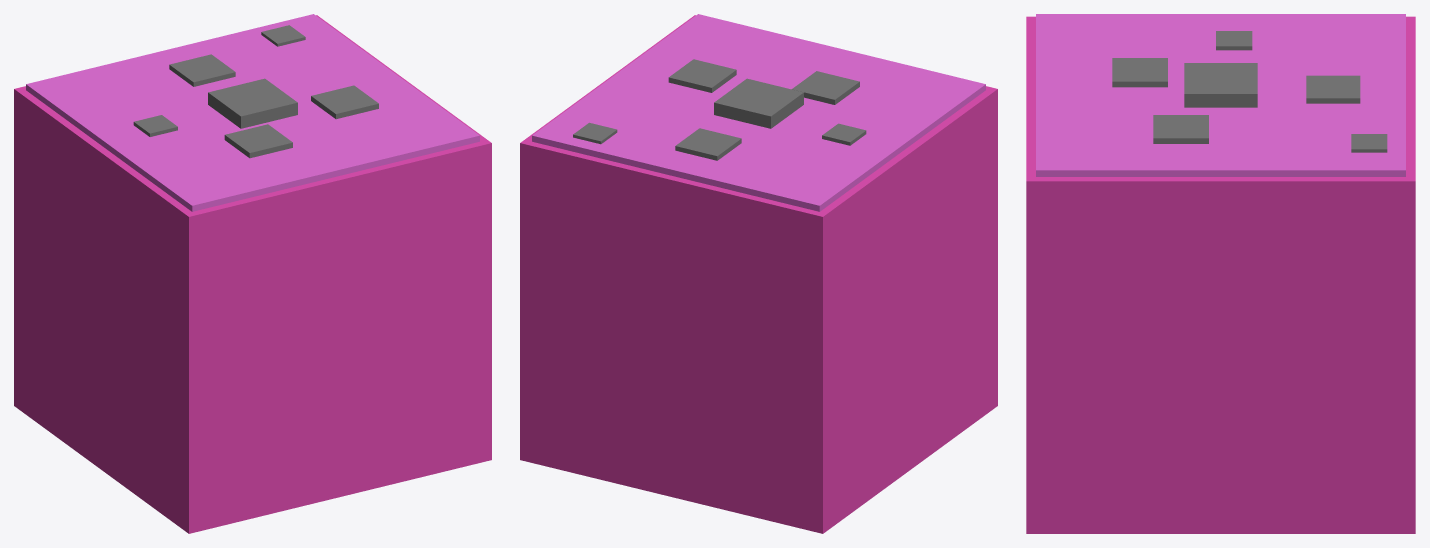
The model's file is podFinished.fbx.
3 views of the same model, side by side, from view 1: azimuth 30°, elevation 25°; view 2: azimuth 150°, elevation 25°; view 3: azimuth 270°, elevation 25° (orthographic). The views are drawn at different scales.
Visible parts, largest first — view 1: Cube.001, Cube, Cube.002, Cube.005, Cube.006, Cube.003, Cube.004, Cube.007; view 2: Cube.001, Cube, Cube.002, Cube.006, Cube.005, Cube.003, Cube.004, Cube.007; view 3: Cube.001, Cube, Cube.002, Cube.005, Cube.006, Cube.003, Cube.004, Cube.007.
Part boxes in pixels (bbox=[...]): Cube.001: bbox=[14, 15, 491, 533]; Cube: bbox=[26, 14, 479, 211]; Cube.002: bbox=[208, 78, 297, 128]; Cube.005: bbox=[224, 124, 292, 158]; Cube.006: bbox=[311, 85, 378, 119]; Cube.003: bbox=[169, 54, 235, 86]; Cube.004: bbox=[133, 115, 177, 136]; Cube.007: bbox=[261, 25, 305, 46]; Cube.001: bbox=[520, 15, 997, 533]; Cube: bbox=[532, 14, 985, 211]; Cube.002: bbox=[714, 78, 803, 128]; Cube.006: bbox=[668, 59, 736, 92]; Cube.005: bbox=[792, 71, 859, 104]; Cube.003: bbox=[675, 128, 741, 160]; Cube.004: bbox=[822, 123, 866, 145]; Cube.007: bbox=[573, 122, 617, 144]; Cube.001: bbox=[1026, 16, 1415, 533]; Cube: bbox=[1036, 14, 1405, 176]; Cube.002: bbox=[1184, 63, 1257, 107]; Cube.005: bbox=[1112, 58, 1167, 87]; Cube.006: bbox=[1153, 115, 1208, 143]; Cube.003: bbox=[1306, 75, 1360, 103]; Cube.004: bbox=[1216, 31, 1252, 50]; Cube.007: bbox=[1351, 134, 1387, 152].
Size of the model in its own units: 100 by 106 by 100.
